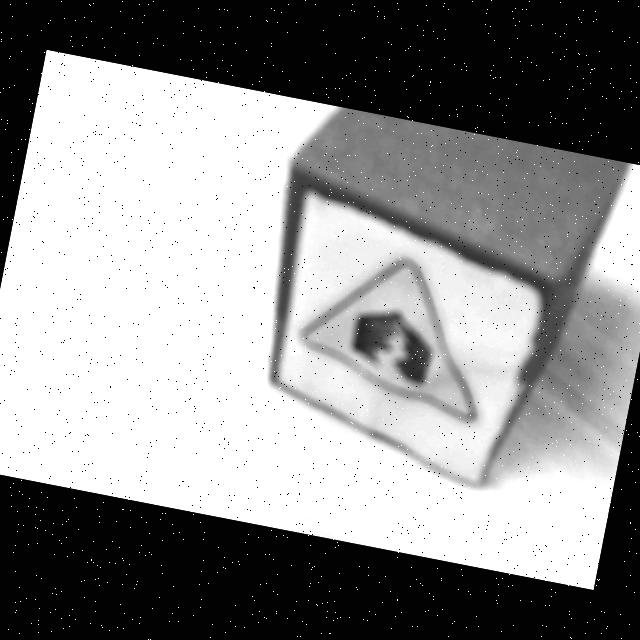Earthquake: (304, 259, 477, 420)
